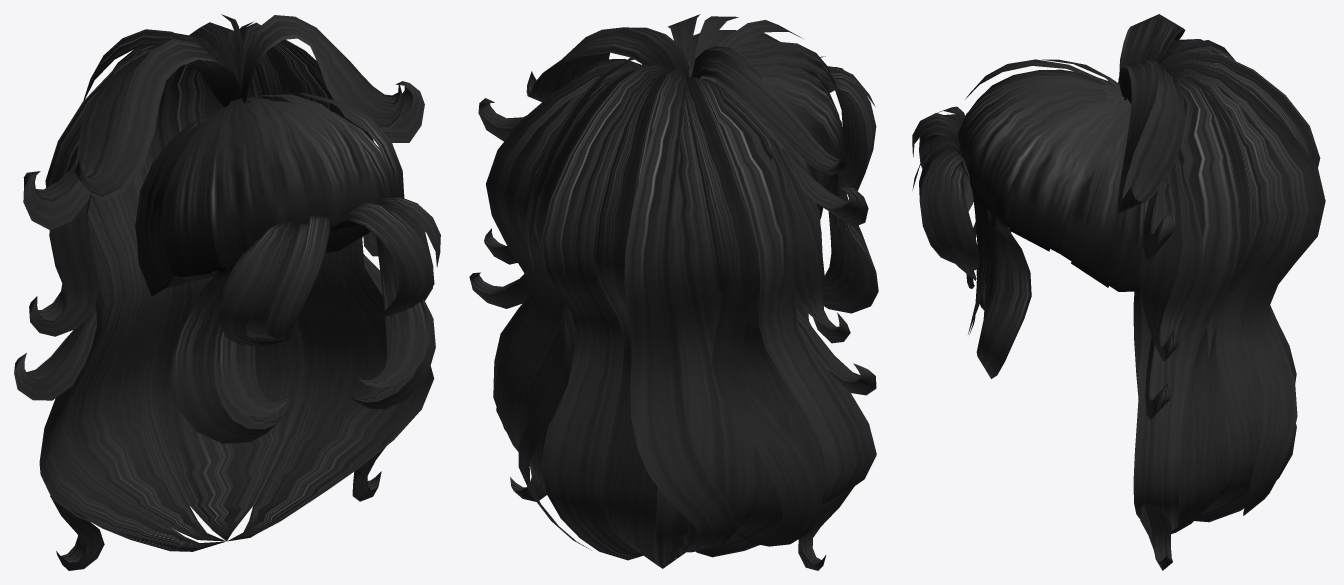
3 renders of one model, left to right at view 1: azimuth 30°, elevation 25°; view 2: azimuth 150°, elevation 25°; view 3: azimuth 270°, elevation 25°, orthographic. The views are drawn at different scales.
Parts seen in each view (by area): view 1: geometry_0; view 2: geometry_0; view 3: geometry_0.
Part boxes in pixels (<box>): geometry_0: <box>14,14,440,570</box>; geometry_0: <box>469,14,878,570</box>; geometry_0: <box>912,14,1325,570</box>.
Bounding box in the file's own units: 2.41 × 2.87 × 2.28.
1 material, 1 textured.
